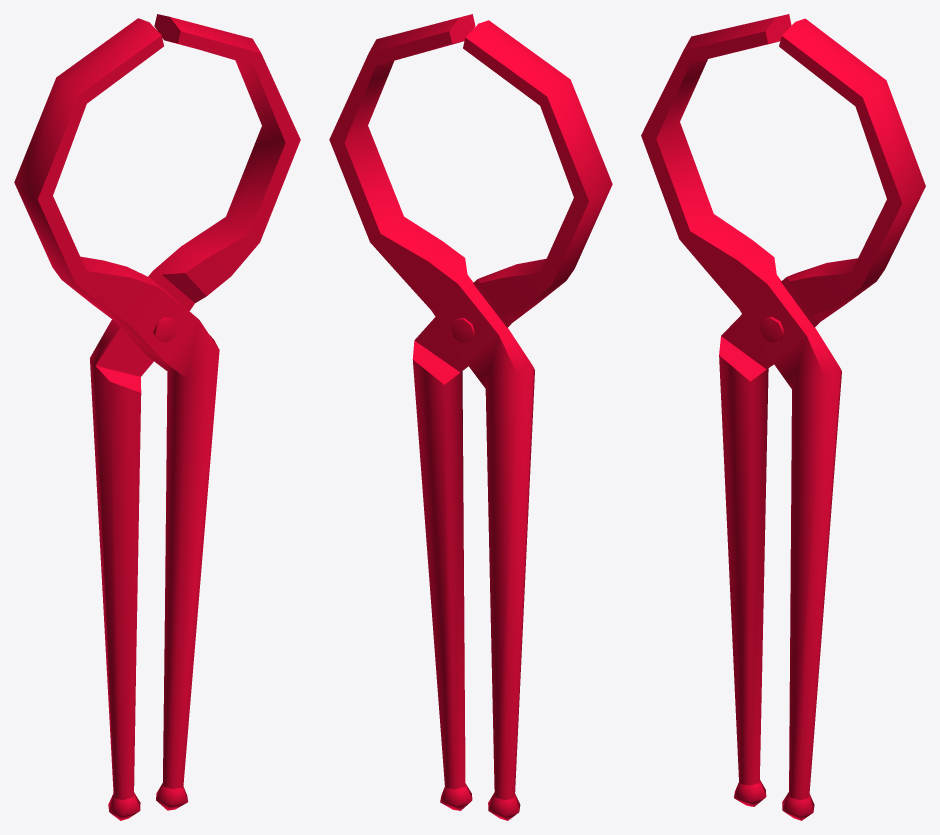
The model's file is Tools_Crucible_Tongs.fbx.
3 renders of one model, left to right at view 1: azimuth 30°, elevation 25°; view 2: azimuth 150°, elevation 25°; view 3: azimuth 330°, elevation 25°, orthographic.
Parts seen in each view (by area): view 1: Tools_Crucible_Tongs; view 2: Tools_Crucible_Tongs; view 3: Tools_Crucible_Tongs.
Part boxes in pixels (<box>): Tools_Crucible_Tongs: <box>14,14,300,820</box>; Tools_Crucible_Tongs: <box>329,14,612,820</box>; Tools_Crucible_Tongs: <box>641,14,925,820</box>.
Bounding box in the file's own units: 155 × 440 × 25.05.
